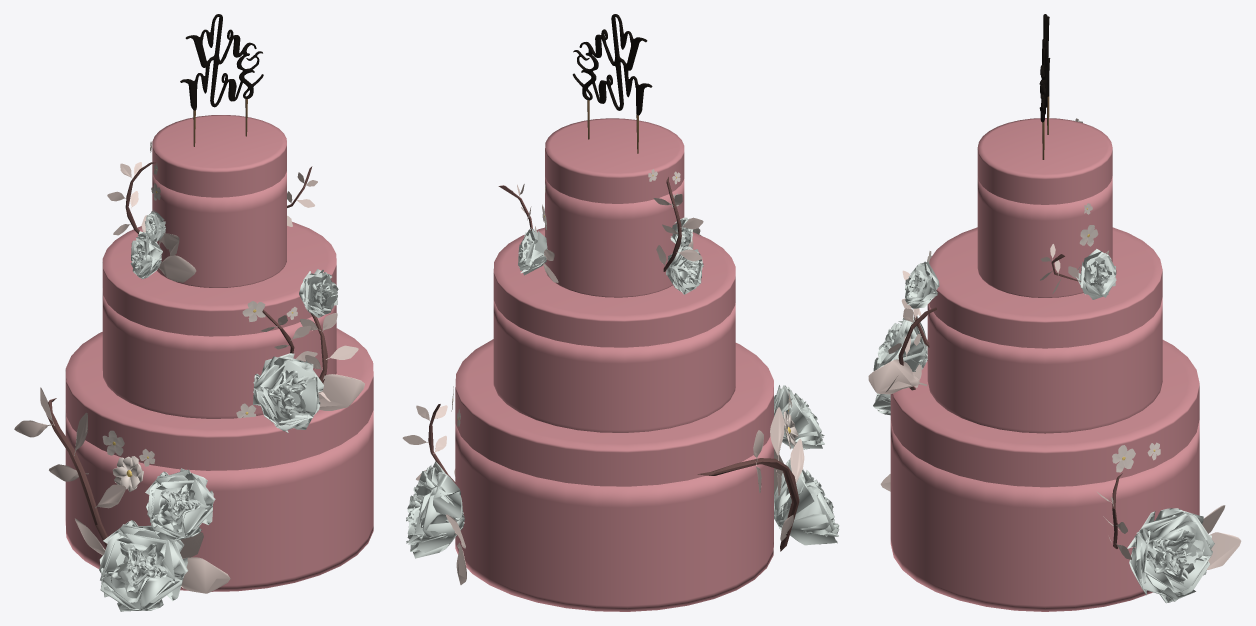
File: 3-tier-blush-roses-mrms.glb
The picture shows the model from 3 angles, left to right: view 1: azimuth 30°, elevation 25°; view 2: azimuth 150°, elevation 25°; view 3: azimuth 270°, elevation 25°; orthographic projection. The views are drawn at different scales.
Parts seen in each view (by area): view 1: Cylinder.022, Cylinder.014, Cylinder.021, grid.042, grid.044, grid.040, Plane.093, mrms.002, grid.043, Plane.087, Plane.091, Plane.095 (+6 smaller); view 2: Cylinder.022, Cylinder.014, Cylinder.021, grid.029, grid.042, mrms.002, Plane.093, grid.040, grid.045, Plane.092, grid.047, Plane.084; view 3: Cylinder.022, Cylinder.014, Cylinder.021, grid.029, grid.044, grid.047, Plane.087, grid.043, mrms.002, Plane.095, Plane.082, Plane.084.
Boxes of the visible parts, <box> form: Cylinder.022: <box>65,328,373,591</box>; Cylinder.014: <box>102,222,336,418</box>; Cylinder.021: <box>152,115,286,287</box>; grid.042: <box>99,520,187,611</box>; grid.044: <box>253,353,323,432</box>; grid.040: <box>145,468,215,542</box>; Plane.093: <box>14,387,125,555</box>; mrms.002: <box>180,14,263,146</box>; grid.043: <box>299,269,338,317</box>; Plane.087: <box>318,374,364,410</box>; Plane.091: <box>181,557,230,593</box>; Plane.095: <box>300,313,358,401</box>; Cylinder.022: <box>455,339,773,611</box>; Cylinder.014: <box>493,227,735,432</box>; Cylinder.021: <box>545,118,684,297</box>; grid.029: <box>406,461,464,558</box>; grid.042: <box>774,458,839,545</box>; mrms.002: <box>572,14,652,153</box>; Plane.093: <box>697,407,804,551</box>; grid.040: <box>774,385,824,449</box>; grid.045: <box>666,246,703,294</box>; Plane.092: <box>653,177,703,271</box>; grid.047: <box>518,228,547,275</box>; Plane.084: <box>402,404,455,483</box>; Cylinder.022: <box>890,339,1199,611</box>; Cylinder.014: <box>927,227,1162,433</box>; Cylinder.021: <box>977,118,1112,297</box>; grid.029: <box>1127,508,1214,603</box>; grid.044: <box>873,316,927,371</box>; grid.047: <box>1076,249,1116,299</box>; Plane.087: <box>868,359,926,394</box>; grid.043: <box>905,261,939,308</box>; mrms.002: <box>1039,14,1050,159</box>; Plane.095: <box>885,307,936,392</box>; Plane.082: <box>1207,532,1241,569</box>; Plane.084: <box>1097,473,1131,559</box>.
Size of the model in its own units: 5.28 by 7.71 by 4.9.
